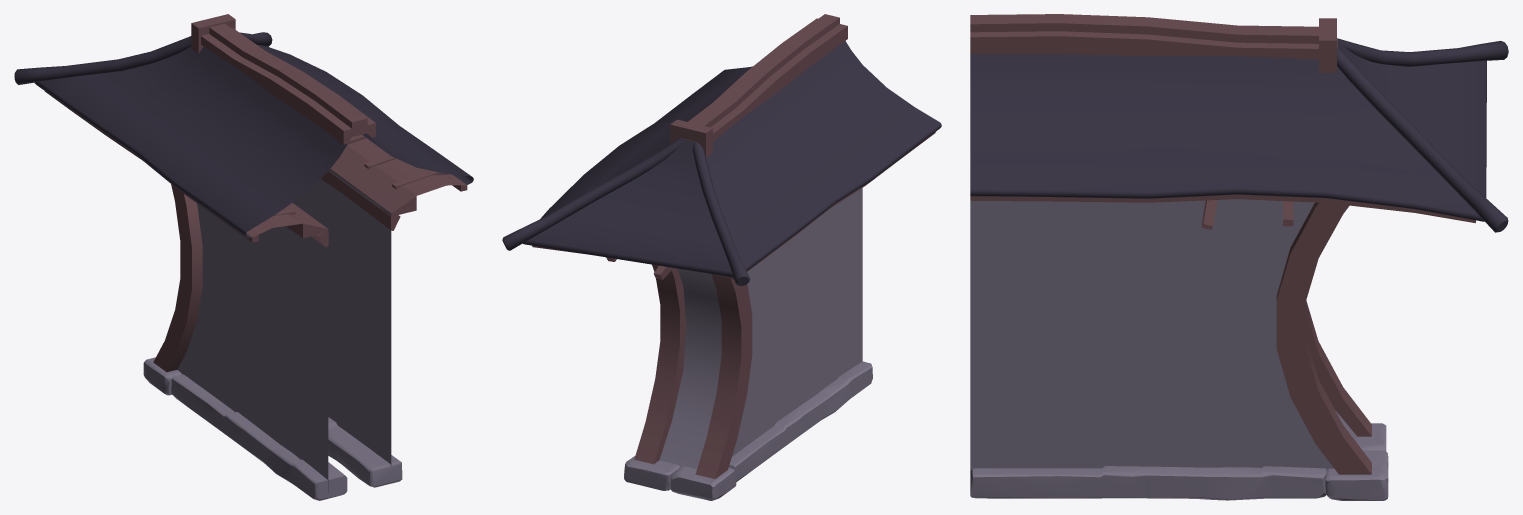
The model's file is wall_fence_02.fbx.
The picture shows the model from 3 angles, left to right: view 1: azimuth 30°, elevation 25°; view 2: azimuth 150°, elevation 25°; view 3: azimuth 270°, elevation 25°; orthographic projection. The views are drawn at different scales.
Visible parts, largest first — view 1: wall_fence_02; view 2: wall_fence_02; view 3: wall_fence_02.
Boxes of the visible parts, <box> form: wall_fence_02: <box>14,14,473,500</box>; wall_fence_02: <box>502,14,941,500</box>; wall_fence_02: <box>970,14,1508,500</box>.
Bounding box in the file's own units: 406 × 565 × 604.
